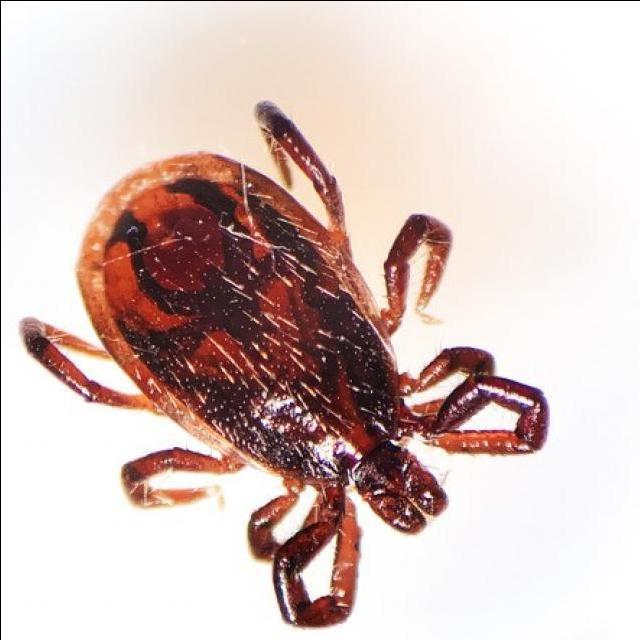Ixodes Ricinus-M: (22, 98, 549, 626)
